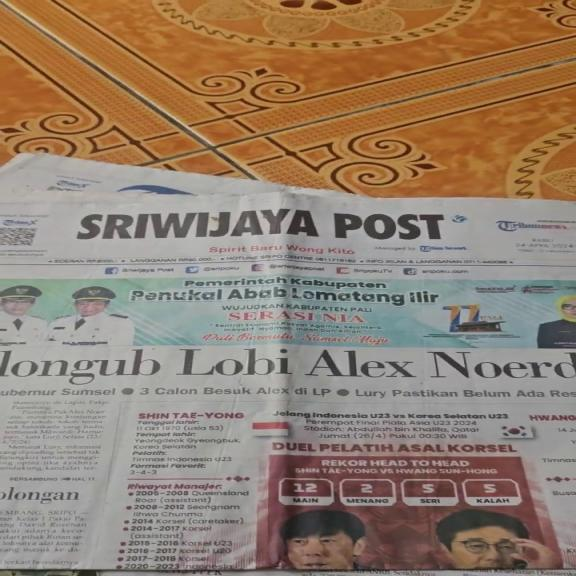Kertas: (4, 202, 562, 569)
